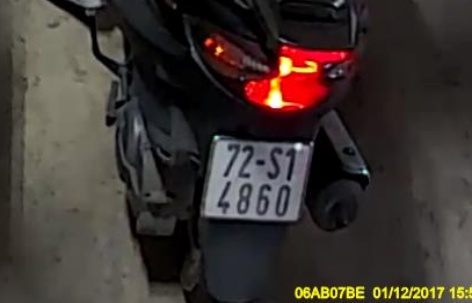plate: (204, 132, 301, 225)
